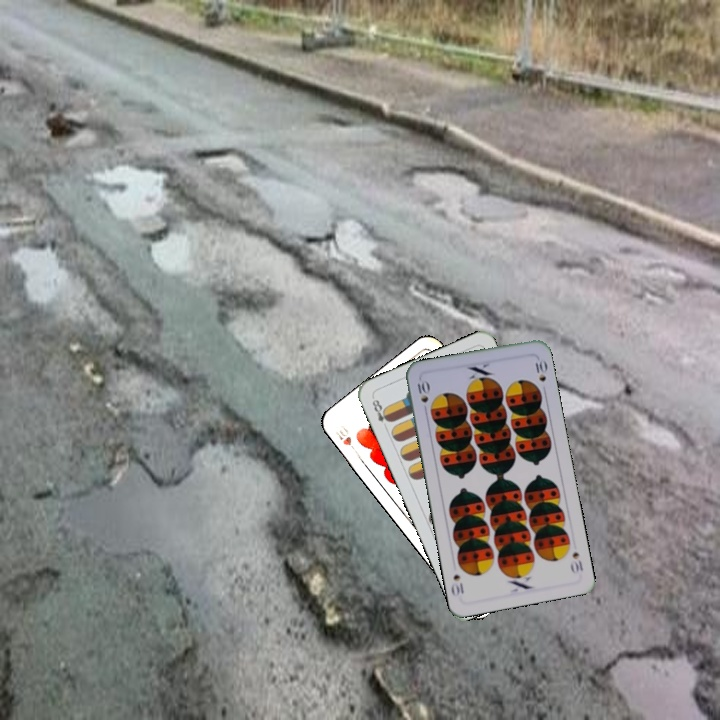E8: (368, 393, 393, 432)
H10: (331, 421, 361, 457)
S10: (566, 548, 586, 576), (413, 375, 431, 405)
